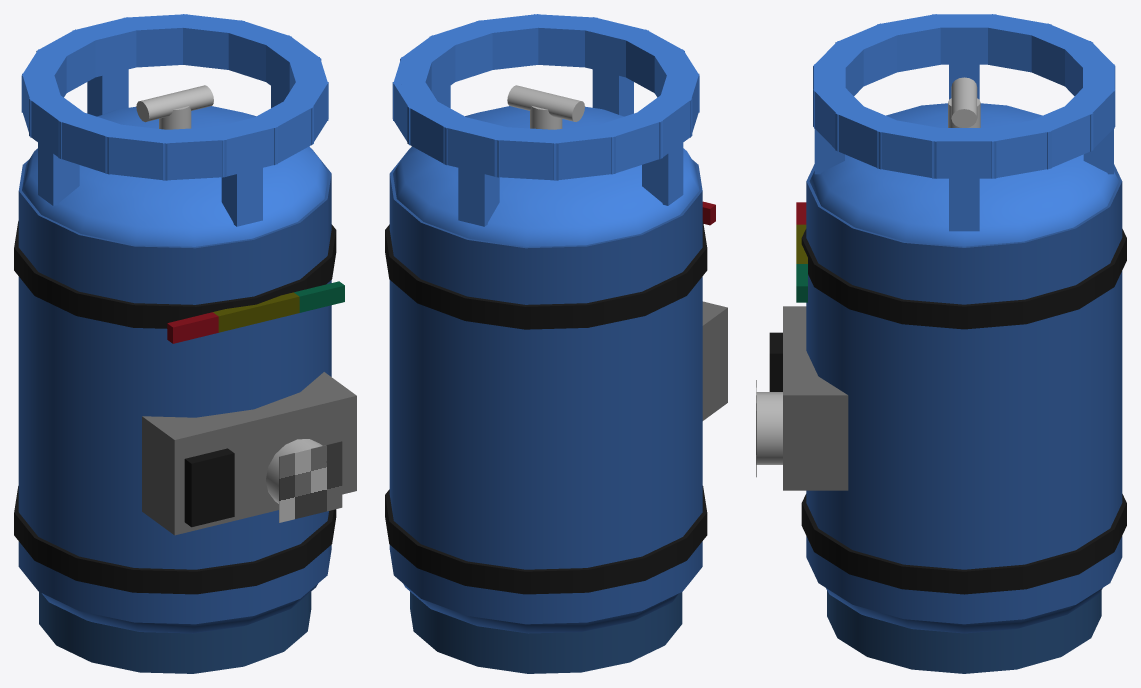
File: CMU3DBlueCanisterCloud.glb
3 views of the same model, side by side, from view 1: azimuth 30°, elevation 25°; view 2: azimuth 150°, elevation 25°; view 3: azimuth 270°, elevation 25° (orthographic).
Parts seen in each view (by area): view 1: blue cylindrical pressure vessel, rounded upper vessel shoulder, gray service controller, blue foot ring, black retaining hoop 0.17, black retaining hoop 0.67, dial original markings, black outlet opening, open crown rim segment 11, open crown rim segment 10, open crown rim segment 12, open crown rim segment 9 (+22 smaller); view 2: blue cylindrical pressure vessel, rounded upper vessel shoulder, blue foot ring, black retaining hoop 0.67, black retaining hoop 0.17, open crown rim segment 5, open crown rim segment 6, gray service controller, open crown rim segment 4, open crown rim segment 7, open crown rim segment 13, open crown rim segment 14 (+16 smaller); view 3: blue cylindrical pressure vessel, rounded upper vessel shoulder, blue foot ring, gray service controller, black retaining hoop 0.17, black retaining hoop 0.67, open crown rim segment 0, open crown rim segment 1, open crown rim segment 15, open crown rim segment 8, open crown rim segment 7, open crown rim segment 14 (+18 smaller).
Part boxes in pixels (x1=…): blue cylindrical pressure vessel: x1=18, y1=148, x2=331, y2=624; rounded upper vessel shoulder: x1=22, y1=106, x2=328, y2=246; gray service controller: x1=142, y1=372, x2=356, y2=535; blue foot ring: x1=39, y1=592, x2=311, y2=673; black retaining hoop 0.17: x1=14, y1=486, x2=336, y2=594; black retaining hoop 0.67: x1=14, y1=221, x2=336, y2=328; dial original markings: x1=279, y1=441, x2=342, y2=522; black outlet opening: x1=184, y1=448, x2=234, y2=527; open crown rim segment 11: x1=159, y1=126, x2=226, y2=180; open crown rim segment 10: x1=105, y1=124, x2=174, y2=180; open crown rim segment 12: x1=207, y1=115, x2=277, y2=177; open crown rim segment 9: x1=58, y1=110, x2=127, y2=174; blue cylindrical pressure vessel: x1=389, y1=148, x2=702, y2=624; rounded upper vessel shoulder: x1=393, y1=106, x2=699, y2=246; blue foot ring: x1=410, y1=592, x2=682, y2=673; black retaining hoop 0.67: x1=385, y1=221, x2=707, y2=329; black retaining hoop 0.17: x1=385, y1=486, x2=707, y2=594; open crown rim segment 5: x1=494, y1=127, x2=562, y2=180; open crown rim segment 6: x1=548, y1=123, x2=615, y2=180; gray service controller: x1=702, y1=301, x2=727, y2=420; open crown rim segment 4: x1=443, y1=115, x2=514, y2=177; open crown rim segment 7: x1=594, y1=110, x2=662, y2=174; open crown rim segment 13: x1=530, y1=14, x2=597, y2=67; open crown rim segment 14: x1=476, y1=14, x2=545, y2=69; blue cylindrical pressure vessel: x1=806, y1=164, x2=1122, y2=624; rounded upper vessel shoulder: x1=809, y1=103, x2=1118, y2=246; blue foot ring: x1=827, y1=590, x2=1101, y2=673; gray service controller: x1=783, y1=306, x2=848, y2=490; black retaining hoop 0.17: x1=801, y1=494, x2=1126, y2=594; black retaining hoop 0.67: x1=801, y1=229, x2=1126, y2=329; open crown rim segment 0: x1=932, y1=128, x2=996, y2=178; open crown rim segment 1: x1=989, y1=119, x2=1051, y2=178; open crown rim segment 15: x1=877, y1=119, x2=946, y2=178; open crown rim segment 8: x1=932, y1=14, x2=996, y2=64; open crown rim segment 7: x1=981, y1=14, x2=1051, y2=72; open crown rim segment 14: x1=835, y1=104, x2=902, y2=169.
Size of the model in its own units: 0.556 by 1.01 by 0.634.
Materials: 10 (1 with a texture image).
